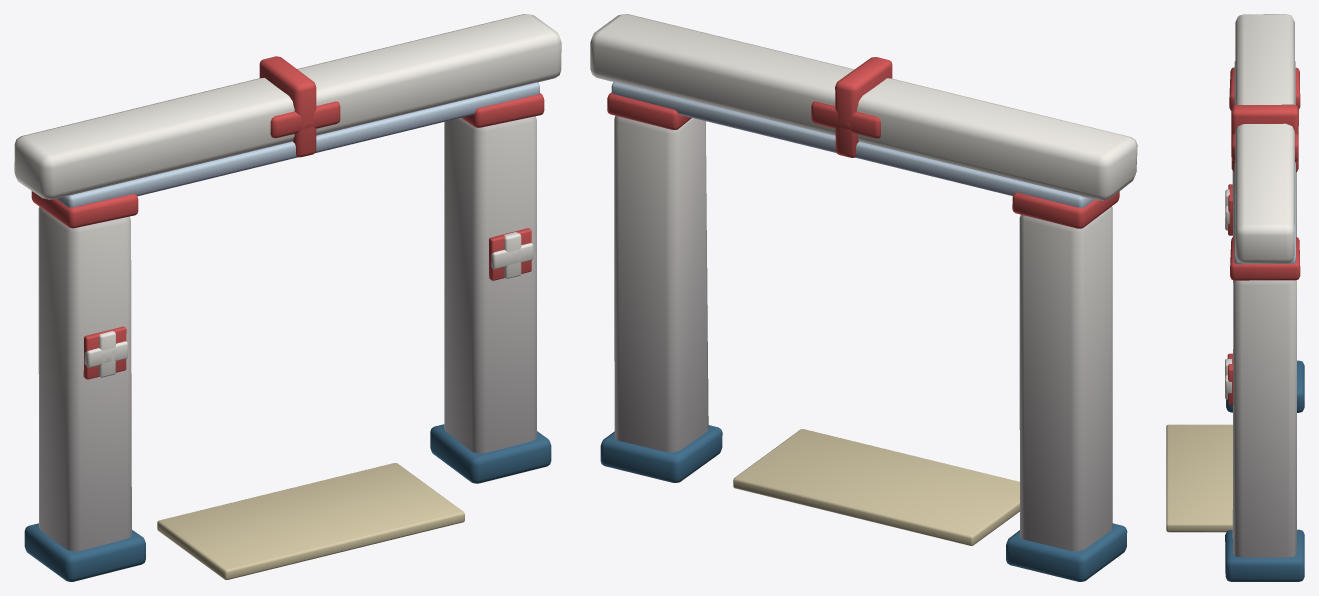
3 views of the same model, side by side, from view 1: azimuth 30°, elevation 25°; view 2: azimuth 150°, elevation 25°; view 3: azimuth 270°, elevation 25° (orthographic). The views are drawn at different scales.
Parts seen in each view (by area): view 1: gate_48bbeb17; view 2: gate_48bbeb17; view 3: gate_48bbeb17.
Part boxes in pixels (<box>): gate_48bbeb17: <box>14,14,561,581</box>; gate_48bbeb17: <box>590,14,1137,581</box>; gate_48bbeb17: <box>1166,14,1304,581</box>.
Size of the model in its own units: 5.2 by 4.2 by 1.4.
